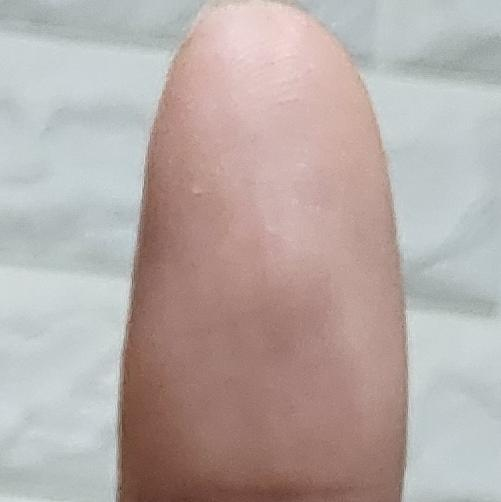Fingerprints: (119, 0, 408, 495)
